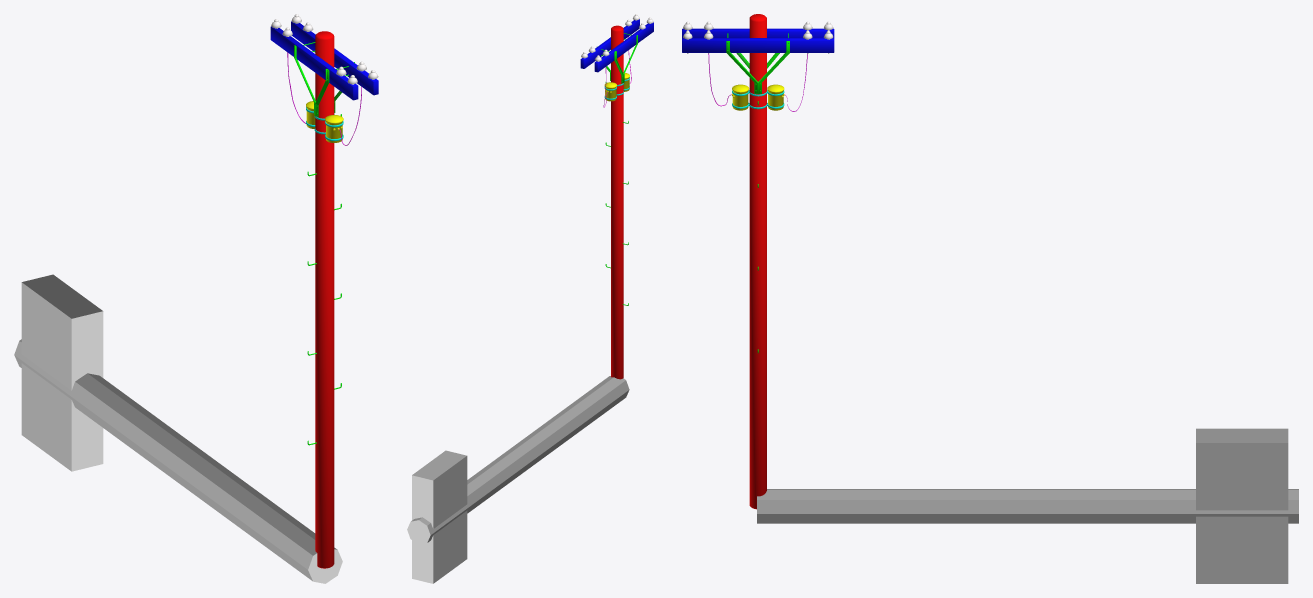
The model's file is SM_Electric_Pole_02.fbx.
The picture shows the model from 3 angles, left to right: view 1: azimuth 30°, elevation 25°; view 2: azimuth 150°, elevation 25°; view 3: azimuth 270°, elevation 25°; orthographic projection. The views are drawn at different scales.
Visible parts, largest first — view 1: SM_Electric_Pole_02_ConvexHulls, SM_Electric_Pole_02_LOD0; view 2: SM_Electric_Pole_02_ConvexHulls, SM_Electric_Pole_02_LOD0; view 3: SM_Electric_Pole_02_ConvexHulls, SM_Electric_Pole_02_LOD0.
Boxes of the visible parts, x1,y1,x2,y2 form: SM_Electric_Pole_02_ConvexHulls: (14, 274, 342, 583); SM_Electric_Pole_02_LOD0: (270, 14, 378, 568); SM_Electric_Pole_02_ConvexHulls: (407, 376, 629, 583); SM_Electric_Pole_02_LOD0: (580, 14, 653, 379); SM_Electric_Pole_02_ConvexHulls: (757, 428, 1298, 583); SM_Electric_Pole_02_LOD0: (682, 14, 834, 509).
Size of the model in its own units: 54.9 by 914 by 915.
